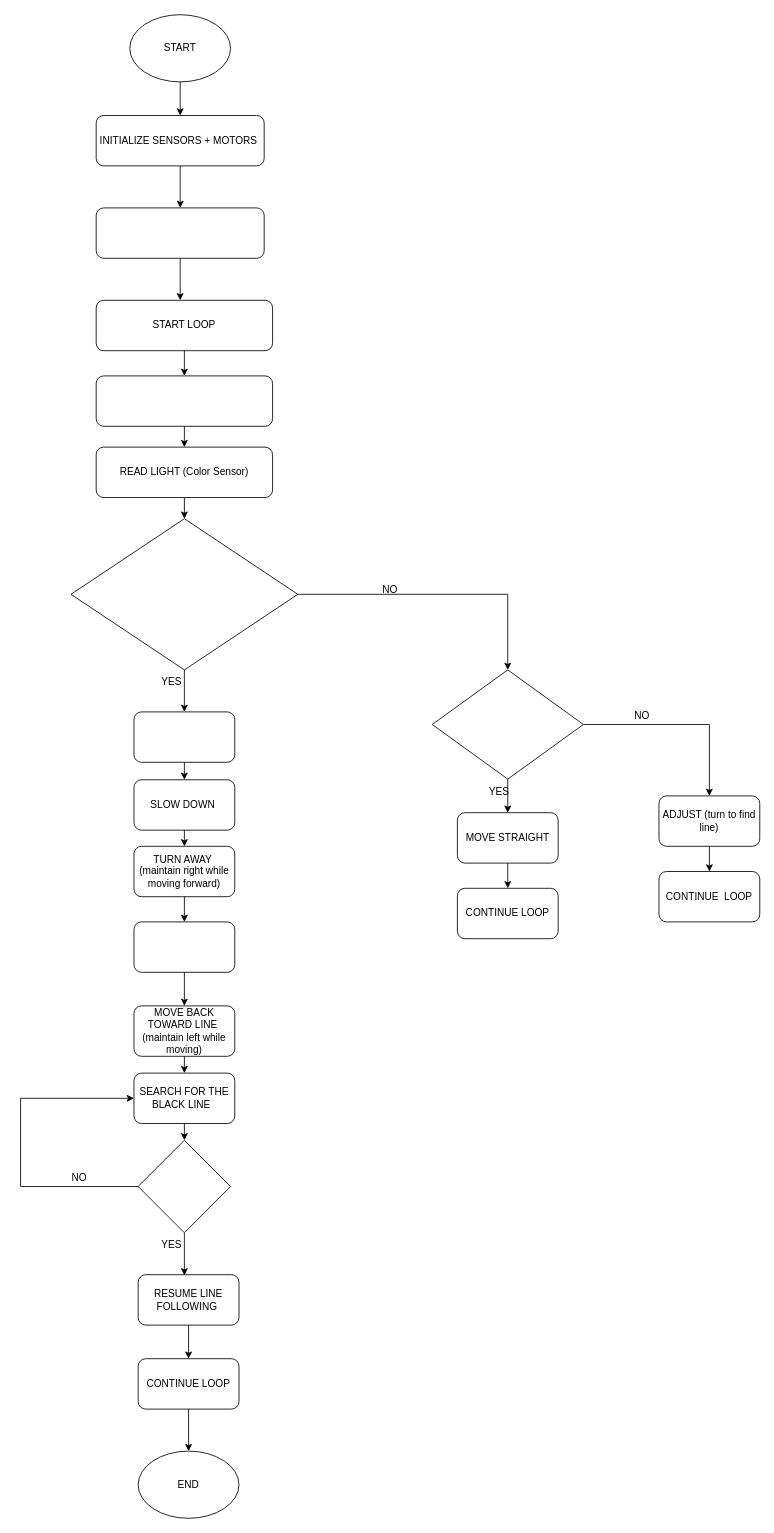
This 774x1533 diagram has some shape labels left out. Here are the shapes that lost their labels. From the top down, the centre of each, then its label:
At (x=179, y=232): "SET VALUES (Threshold, speed, obsctacleCount = 0)".
At (x=184, y=400): "READ DISTANCE (Ultrasonic sensor)".
At (x=184, y=594): "Is obstacle detected? (distance < 0.4)".
At (x=184, y=736): "INCREASE obstacleCount".
At (x=507, y=724): "IS THE ROBOT ON THE BLACK LINE".
At (x=184, y=946): "MOVE BESIDE THE OBJECT".
At (x=184, y=1186): "LINE FOUND ?".
